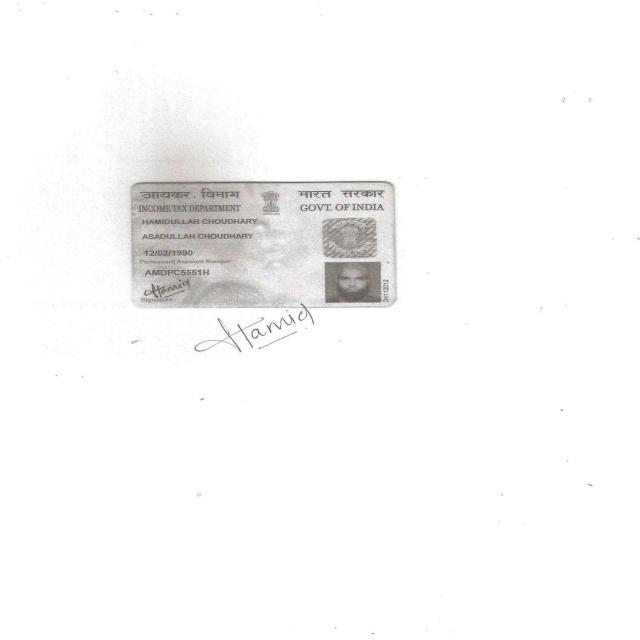pan_card: (128, 180, 395, 311)
